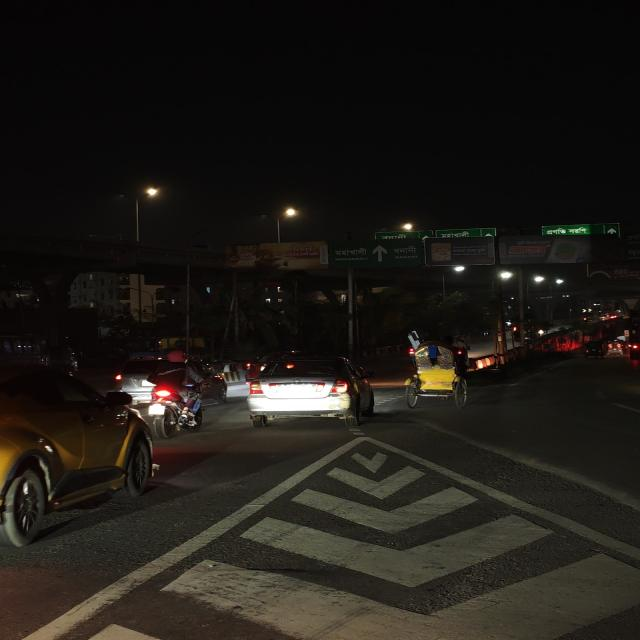car: (0, 358, 163, 550), (242, 354, 377, 428), (111, 357, 210, 397)
cng: (582, 339, 608, 360)
motorcycle: (146, 358, 207, 438)
rickshaw: (399, 331, 473, 409)
